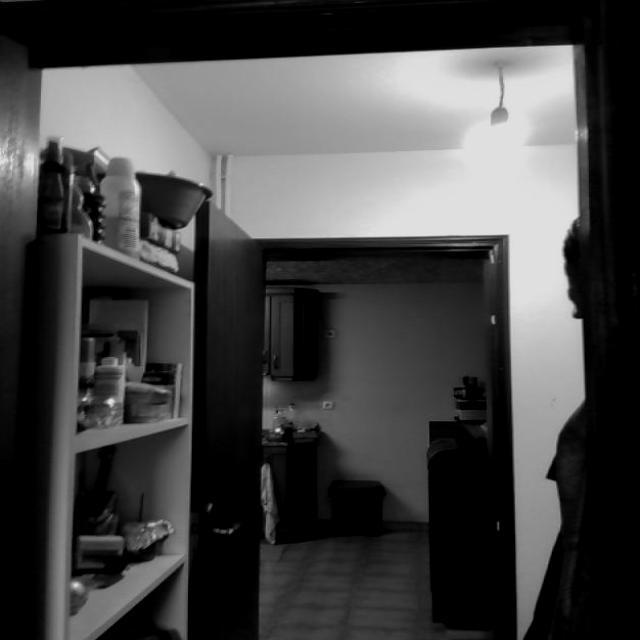door: (178, 190, 272, 640)
